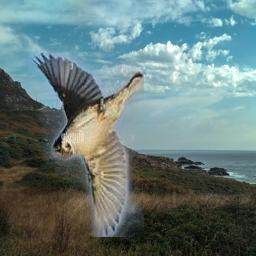Sparrow: (28, 53, 144, 237)
